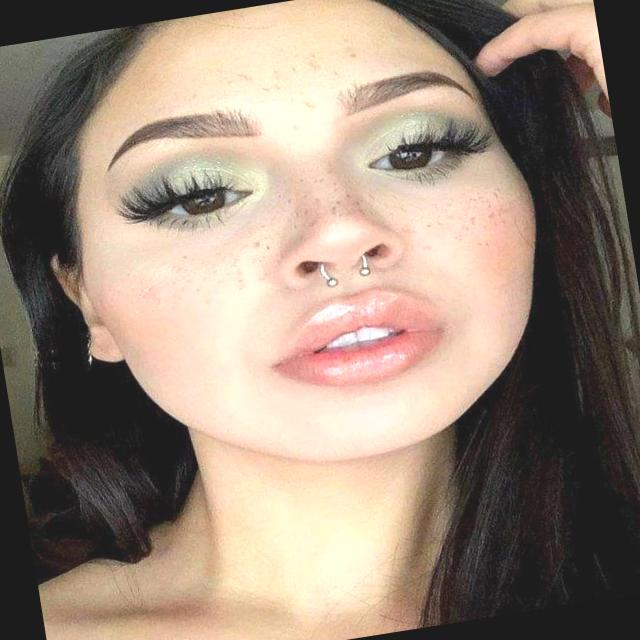freckle: (210, 27, 377, 132), (144, 221, 290, 309), (389, 172, 532, 260), (267, 156, 388, 244)
